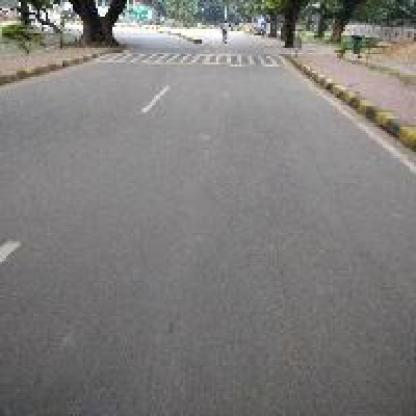Speed Bump: (94, 52, 298, 64)
